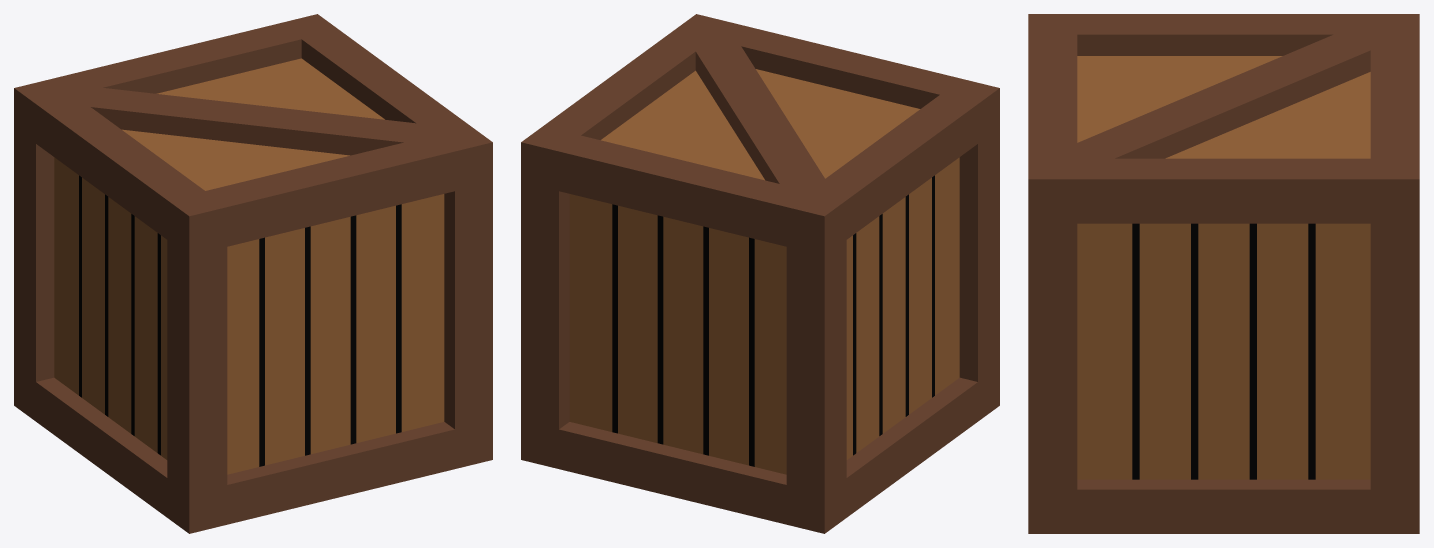
Rendered from Crate.fbx.
3 views of the same model, side by side, from view 1: azimuth 30°, elevation 25°; view 2: azimuth 150°, elevation 25°; view 3: azimuth 270°, elevation 25° (orthographic). The views are drawn at different scales.
Visible parts, largest first — view 1: Crate; view 2: Crate; view 3: Crate.
Part boxes in pixels (x1,y1,x2,y2): Crate: (14, 14, 492, 533); Crate: (521, 14, 999, 533); Crate: (1028, 14, 1419, 533).
Size of the model in its own units: 0.2 by 0.2 by 0.2.
